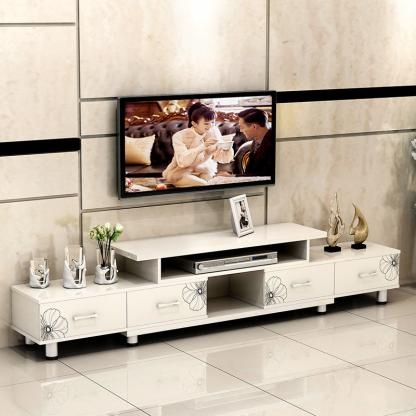Ceramic floor: (0, 288, 416, 416)
TV stand: (9, 219, 410, 360)
